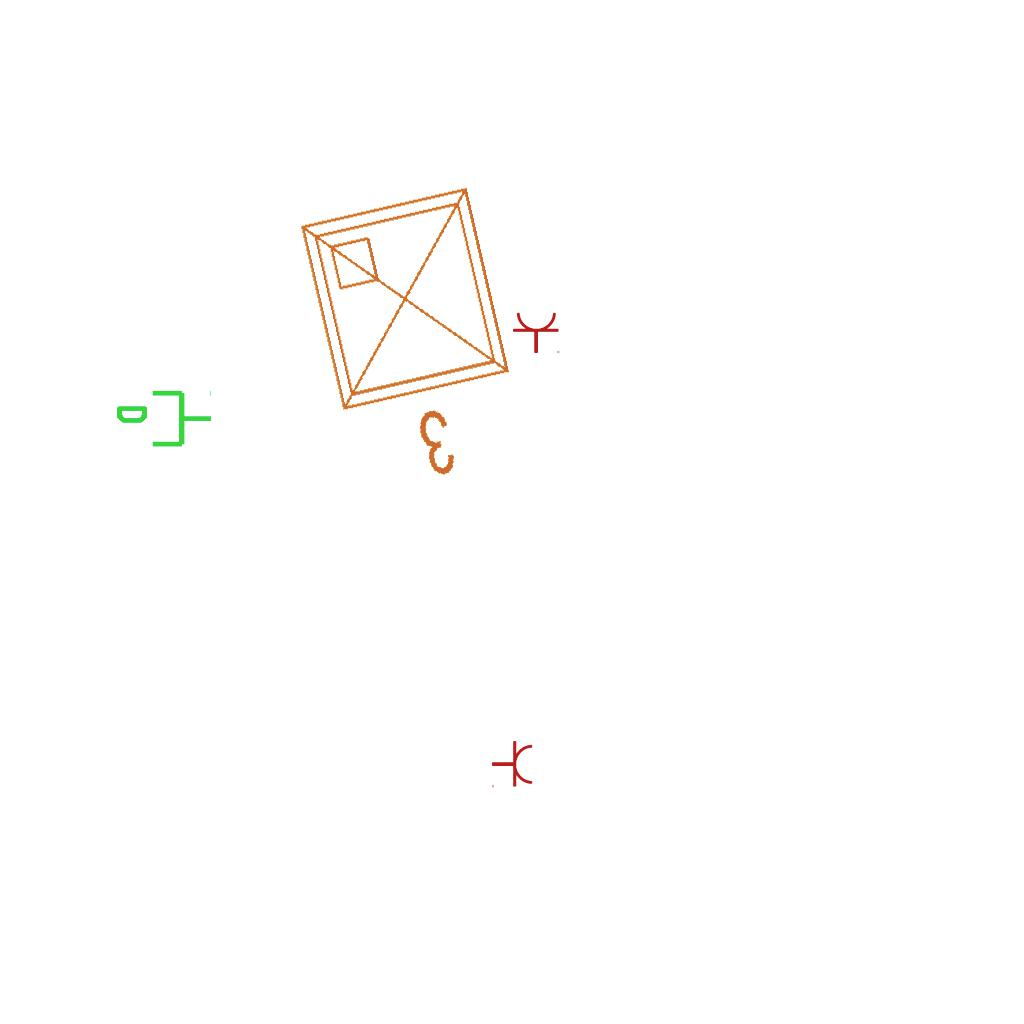Datenanschluss_einfach: (114, 386, 214, 455)
Einbaudownlights_LED_Konferenzraeume: (282, 168, 554, 508)
Schukosteckdose_einfach: (512, 311, 562, 354), (491, 740, 534, 790)
